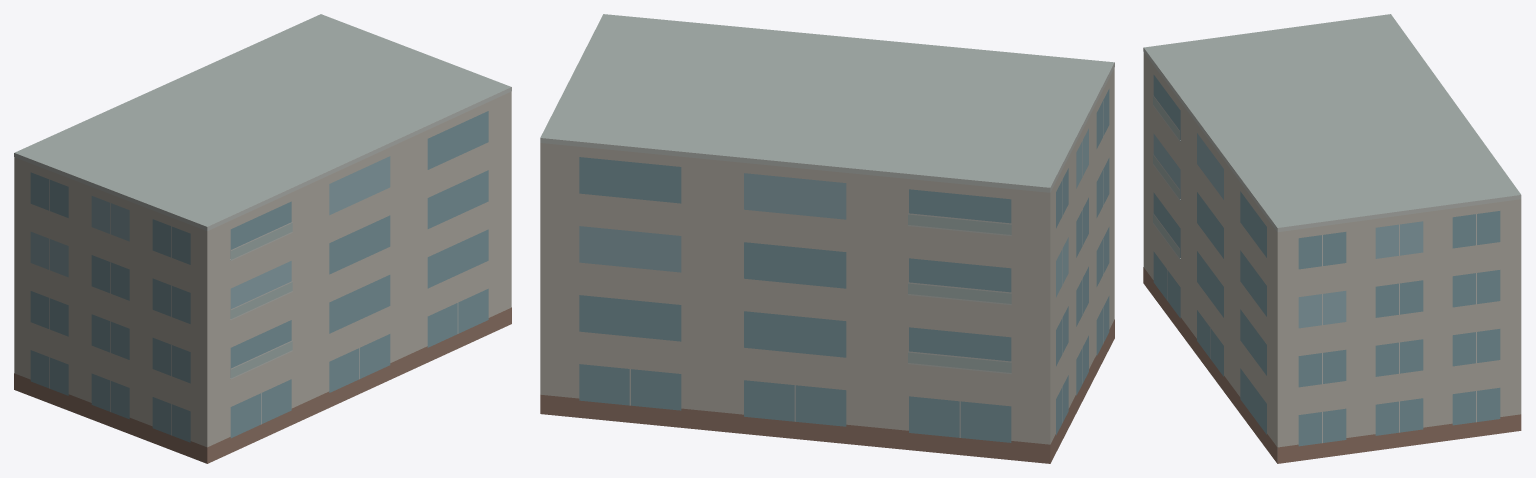
Rendered from survey-upis-32862355.glb.
The picture shows the model from 3 angles, left to right: view 1: azimuth 30°, elevation 25°; view 2: azimuth 150°, elevation 25°; view 3: azimuth 270°, elevation 25°; orthographic projection. The views are drawn at different scales.
Visible parts, largest first — view 1: survey-upis-32862355.tmp; view 2: survey-upis-32862355.tmp; view 3: survey-upis-32862355.tmp.
Boxes of the visible parts, x1=… form: survey-upis-32862355.tmp: x1=14, y1=14, x2=511, y2=463; survey-upis-32862355.tmp: x1=540, y1=14, x2=1114, y2=463; survey-upis-32862355.tmp: x1=1143, y1=14, x2=1521, y2=463.
Size of the model in its own units: 26.14 by 13.43 by 19.51.
